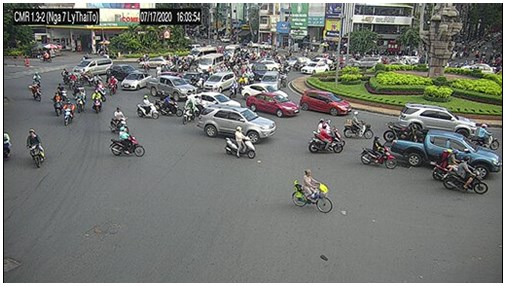xe_ban_tai: (391, 130, 500, 178), (146, 75, 195, 101)
xe_hoi: (198, 106, 277, 143), (399, 103, 476, 136), (299, 90, 351, 115), (247, 94, 299, 118), (193, 92, 242, 114), (72, 59, 113, 75), (120, 72, 151, 90), (203, 72, 232, 91), (109, 64, 135, 80), (261, 70, 280, 90), (301, 62, 328, 75), (462, 61, 493, 72), (248, 60, 279, 70), (354, 56, 381, 67)
xe_khach: (196, 53, 224, 71)
xe_may: (441, 155, 485, 194), (433, 149, 474, 180), (381, 118, 423, 147), (362, 136, 396, 170), (110, 126, 145, 158), (224, 126, 255, 160), (310, 125, 343, 153), (471, 123, 500, 151), (318, 118, 345, 147), (345, 112, 373, 139), (28, 128, 45, 169), (136, 95, 159, 119), (110, 107, 130, 133), (159, 95, 182, 117), (181, 98, 196, 126), (63, 98, 74, 126), (52, 91, 64, 116), (94, 80, 107, 102), (92, 89, 103, 114), (75, 87, 85, 113), (30, 82, 41, 101), (68, 72, 80, 89), (109, 75, 118, 95), (40, 51, 53, 64), (229, 79, 237, 98), (57, 83, 67, 96), (247, 70, 256, 84), (33, 71, 41, 85), (281, 71, 287, 88), (240, 74, 246, 89), (232, 64, 239, 73), (190, 76, 194, 87)
